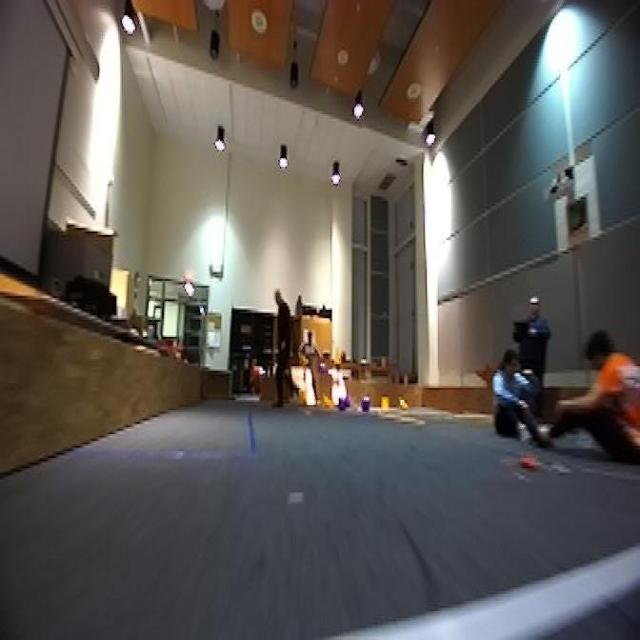frc_cone: (319, 395, 333, 414), (397, 398, 411, 416), (380, 395, 390, 417), (333, 345, 343, 366), (300, 350, 311, 368)
frc_cube: (360, 395, 372, 415), (317, 358, 329, 374), (337, 396, 347, 414)
